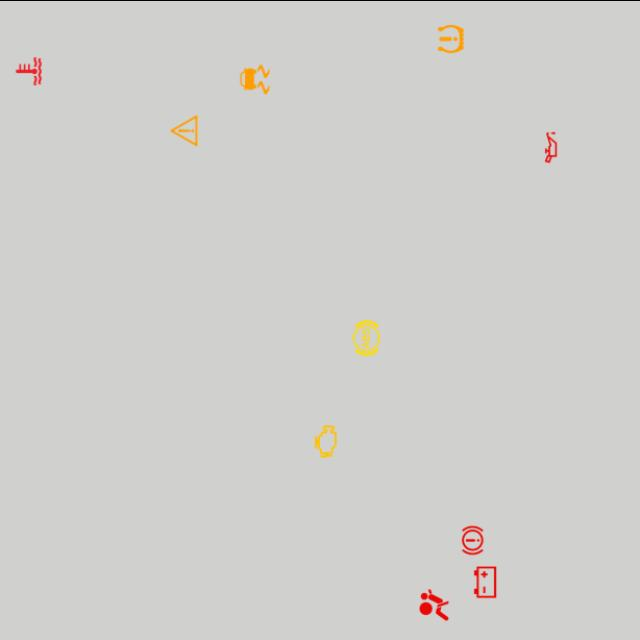Anti Lock Braking System: (348, 318, 386, 356)
Braking System Issue: (454, 520, 492, 558)
Charging System Issue: (466, 562, 504, 600)
Check Engine: (306, 422, 344, 459)
Electronic Stability Problem -ESP-: (236, 59, 274, 98)
Engine Overheating Warning Light: (10, 52, 48, 90)
Low Engine Oil Warning Light: (532, 128, 570, 166)
Low Tire Pressure Warning Light: (432, 19, 470, 57)
Master warning light: (165, 111, 203, 149)
SRS-Airbag: (415, 585, 453, 623)
